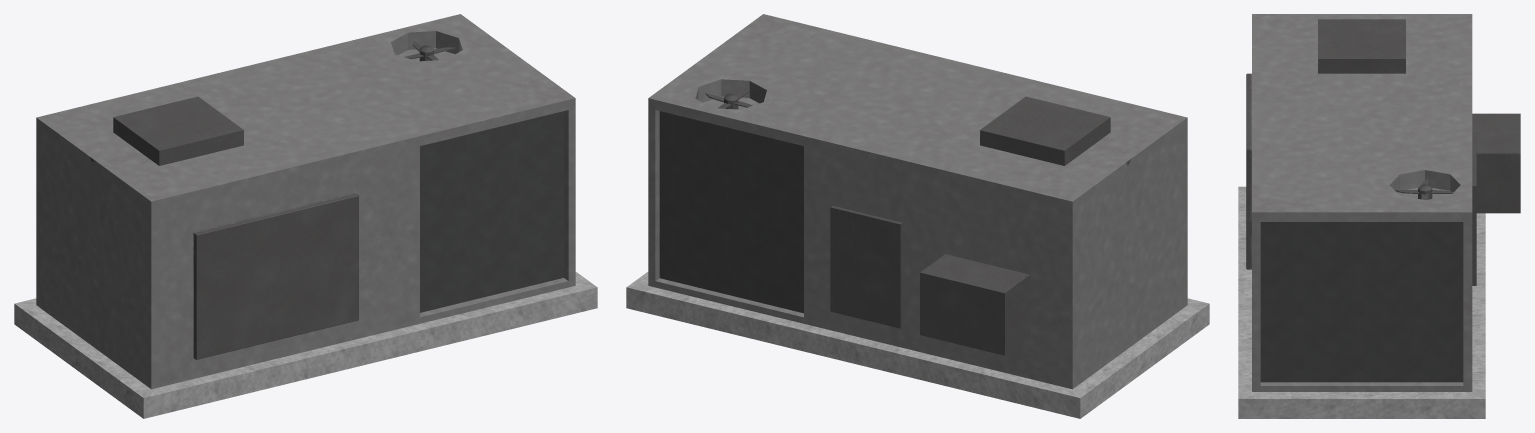
File: Vent.fbx
3 views of the same model, side by side, from view 1: azimuth 30°, elevation 25°; view 2: azimuth 150°, elevation 25°; view 3: azimuth 270°, elevation 25° (orthographic). The views are drawn at different scales.
Visible parts, largest first — view 1: Ventalation_unit_Main2; view 2: Ventalation_unit_Main2; view 3: Ventalation_unit_Main2.
Boxes of the visible parts, x1,y1,x2,y2 form: Ventalation_unit_Main2: [14, 14, 597, 418]; Ventalation_unit_Main2: [626, 14, 1209, 418]; Ventalation_unit_Main2: [1238, 14, 1520, 418].
Bounding box in the file's own units: 28.59 × 13.47 × 16.08.
